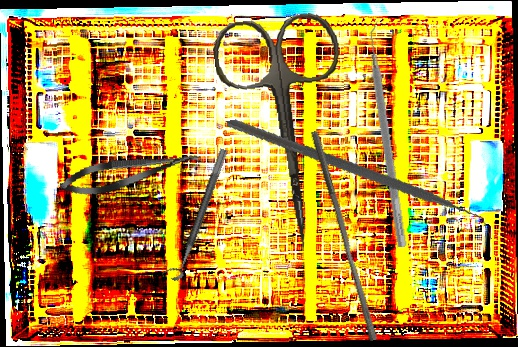Chopper: (226, 75, 492, 285)
Fixation Ring: (161, 144, 229, 283)
Iris Scissors: (210, 10, 363, 255)
Micro Scissor: (57, 142, 204, 202)
Pusher: (302, 130, 385, 342)
Spatula Surgical: (361, 20, 418, 248)
